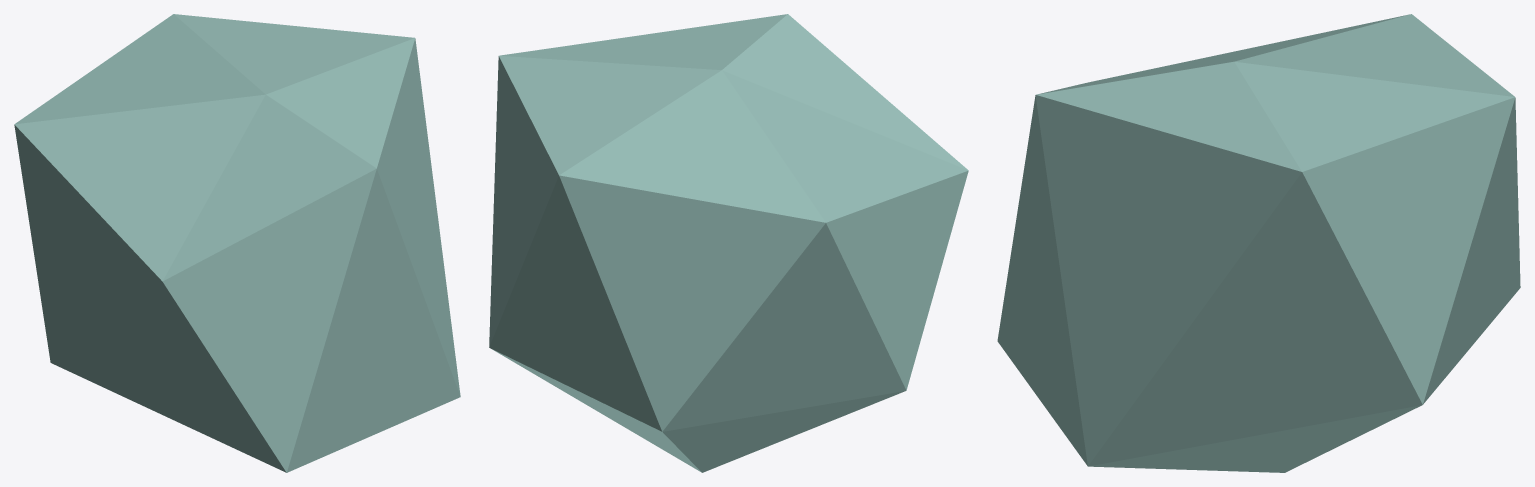
The model's file is 240519_rock_small_02.glb.
3 renders of one model, left to right at view 1: azimuth 30°, elevation 25°; view 2: azimuth 150°, elevation 25°; view 3: azimuth 270°, elevation 25°, orthographic. The views are drawn at different scales.
Visible parts, largest first — view 1: Icosphere.019; view 2: Icosphere.019; view 3: Icosphere.019.
Boxes of the visible parts, <box> form: Icosphere.019: <box>14,14,460,472</box>; Icosphere.019: <box>489,14,968,472</box>; Icosphere.019: <box>997,14,1520,472</box>.
Bounding box in the file's own units: 1.34 × 1.24 × 1.42.
